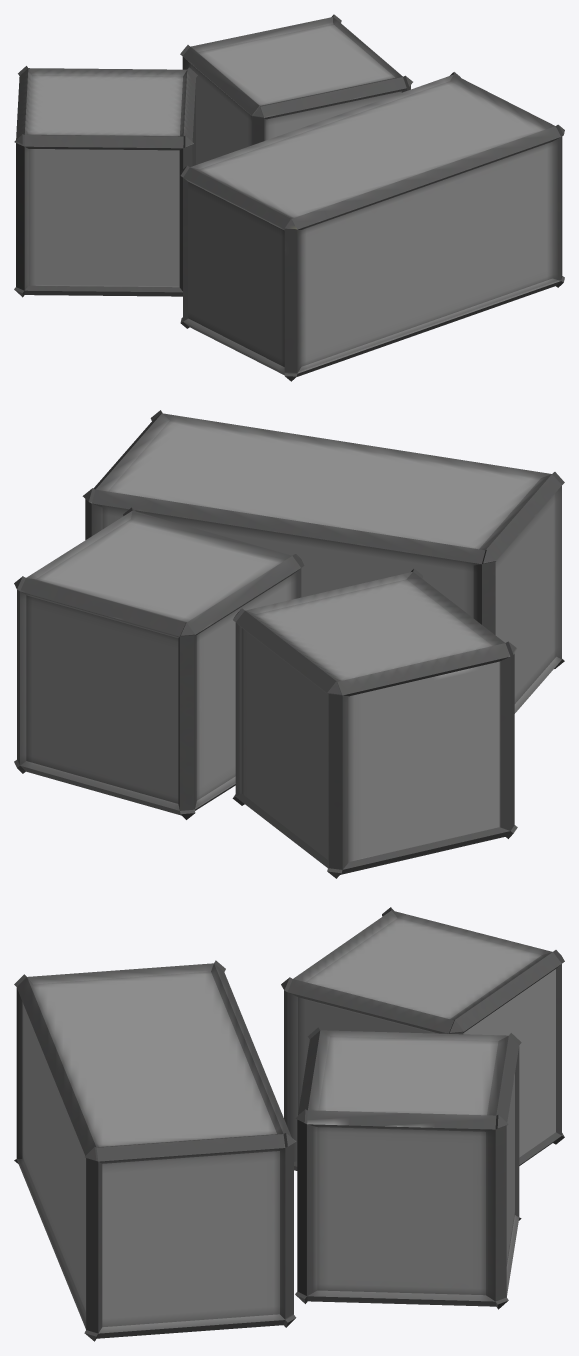
Rendered from Storage_Crates_01.fbx.
3 renders of one model, top to bottom at view 1: azimuth 30°, elevation 25°; view 2: azimuth 150°, elevation 25°; view 3: azimuth 270°, elevation 25°, orthographic. The views are drawn at different scales.
Visible parts, largest first — view 1: Storage_Crates_01; view 2: Storage_Crates_01; view 3: Storage_Crates_01.
Boxes of the visible parts, bbox=[...] form: Storage_Crates_01: bbox=[14, 14, 564, 381]; Storage_Crates_01: bbox=[14, 410, 564, 878]; Storage_Crates_01: bbox=[14, 907, 564, 1341].
Bounding box in the file's own units: 730 × 268 × 685.
